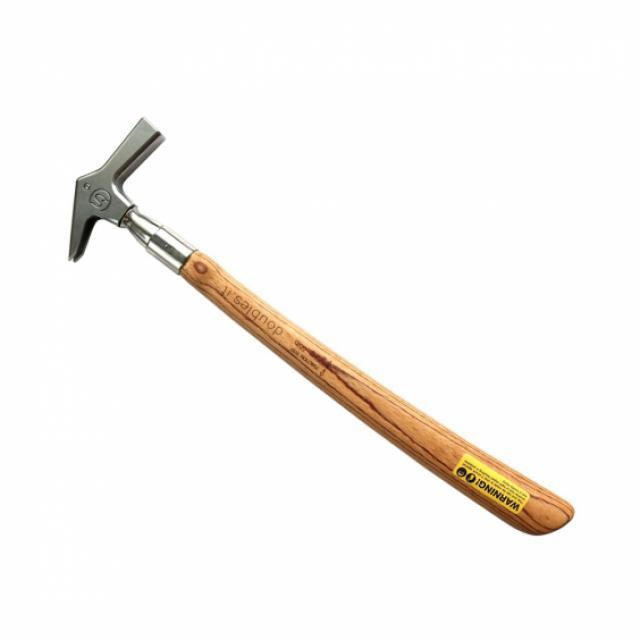hammer: (61, 114, 578, 541)
